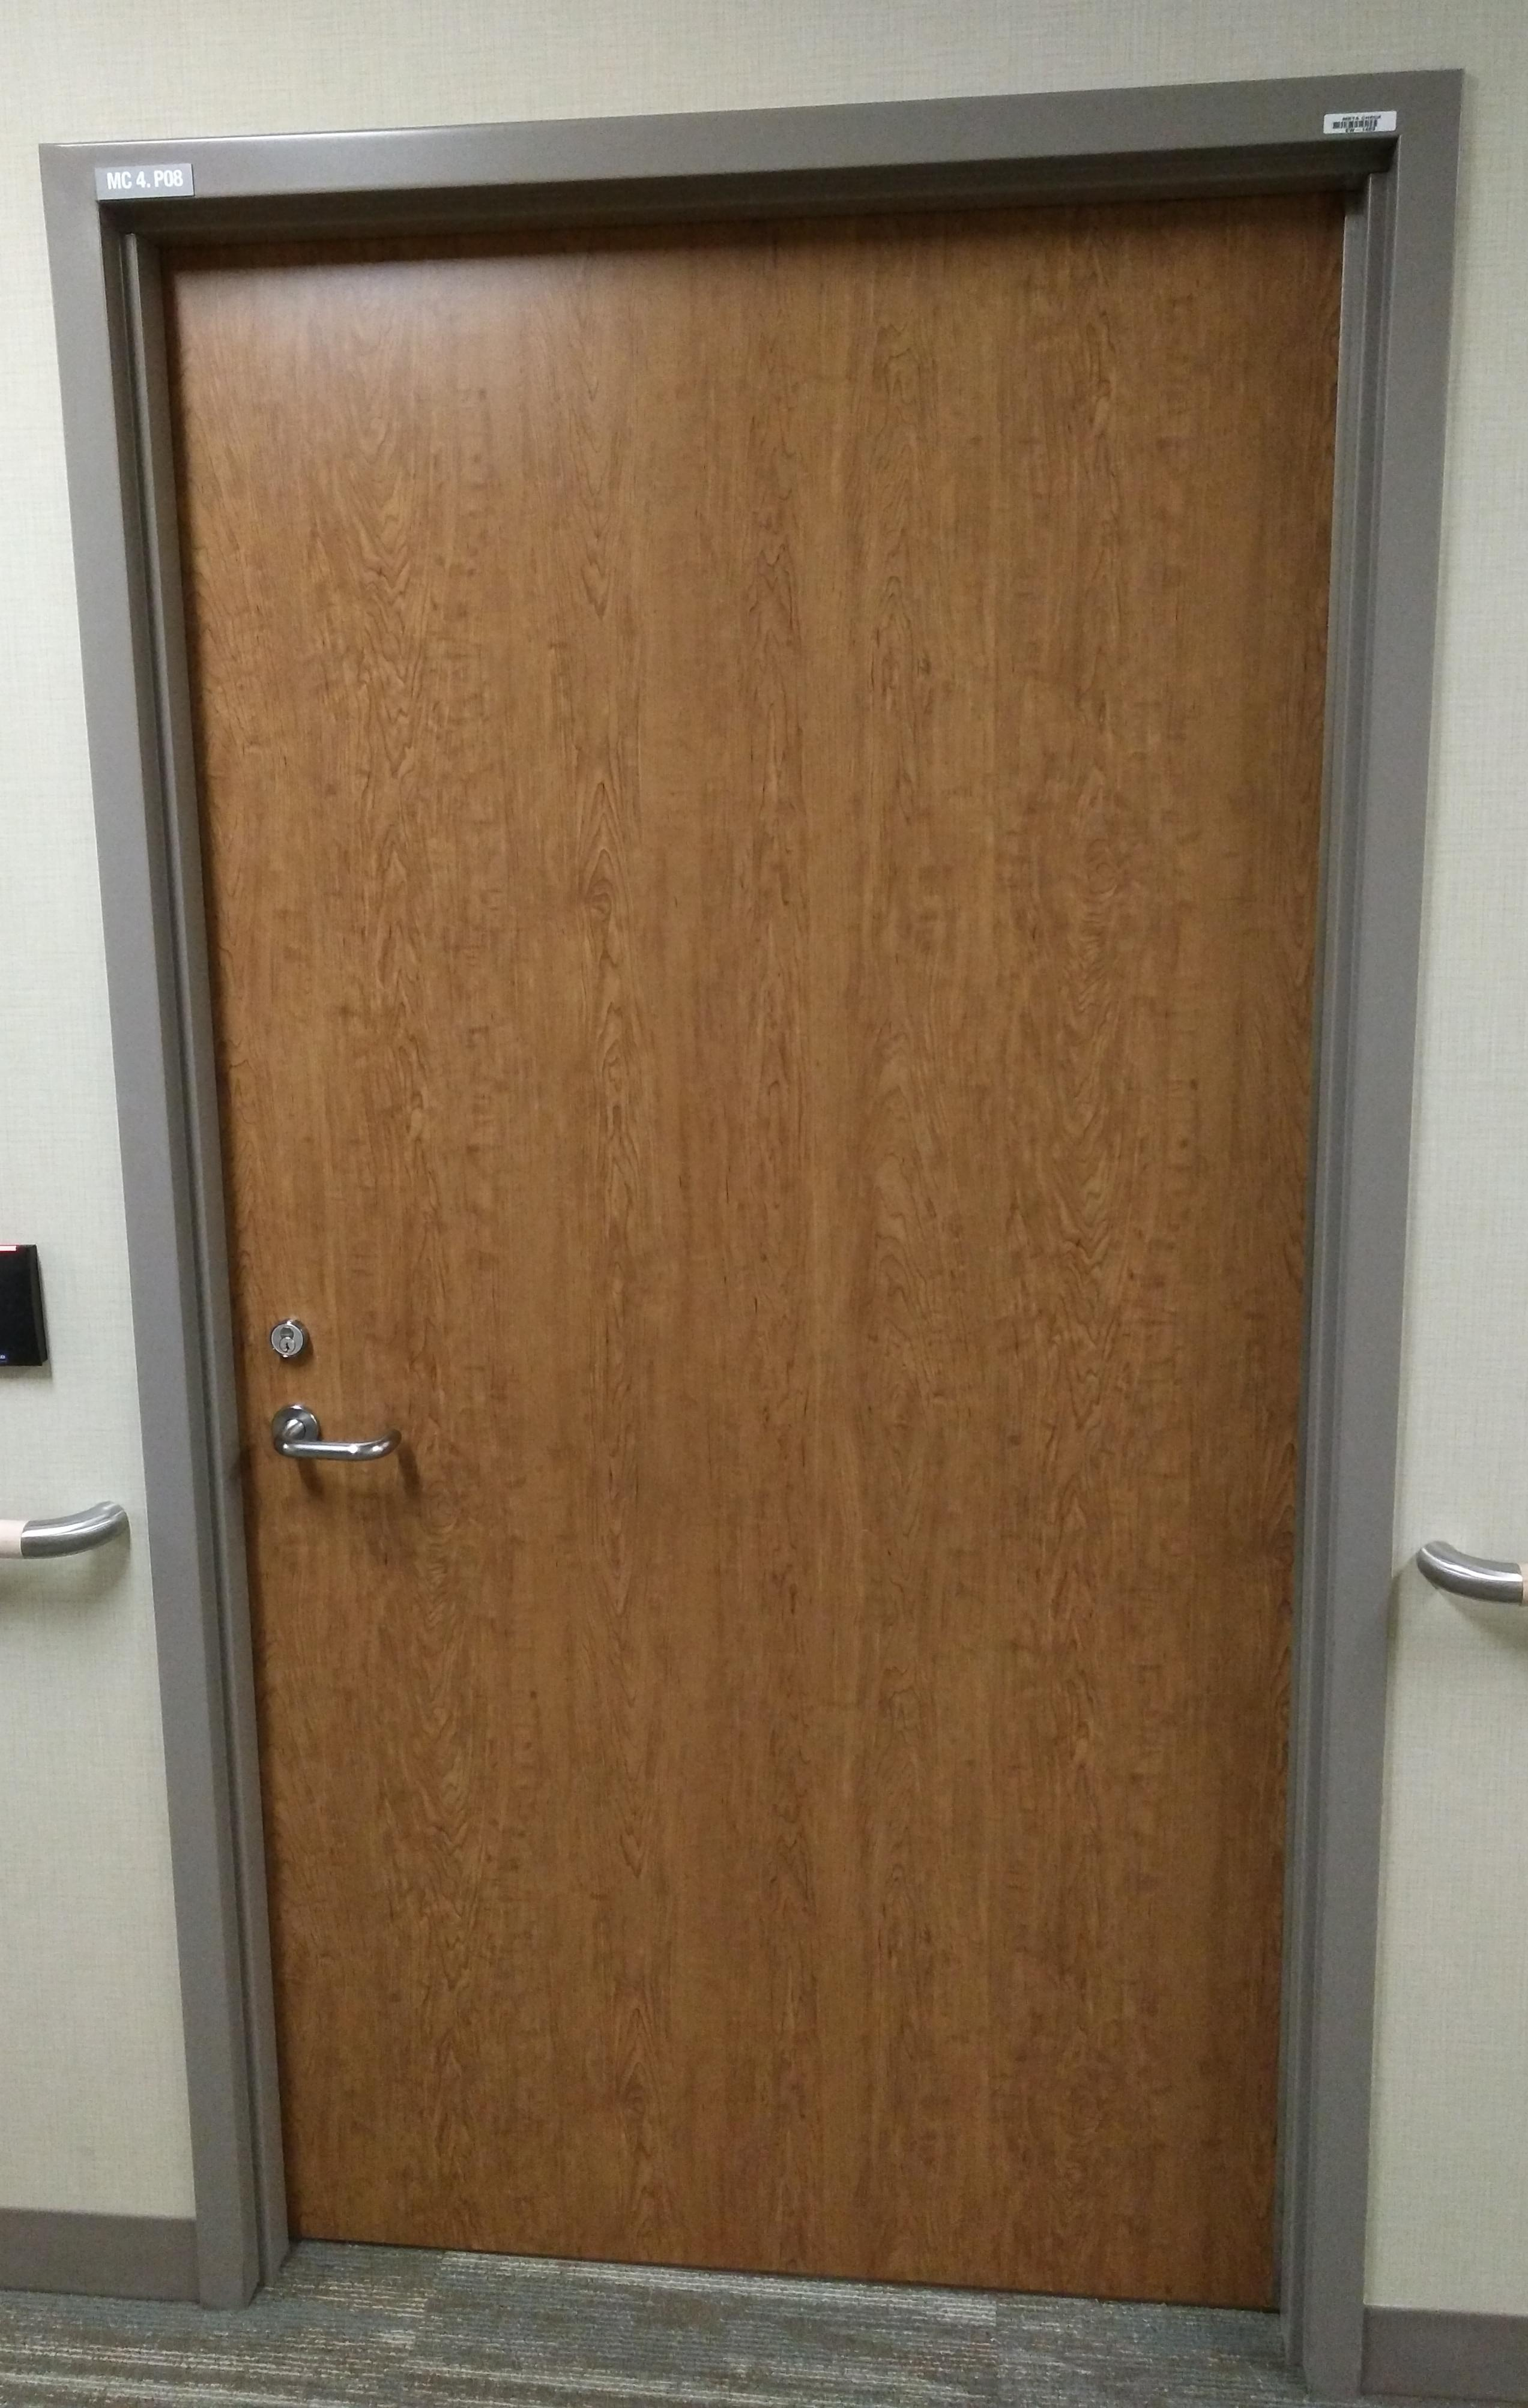door: (105, 193, 1294, 2306)
